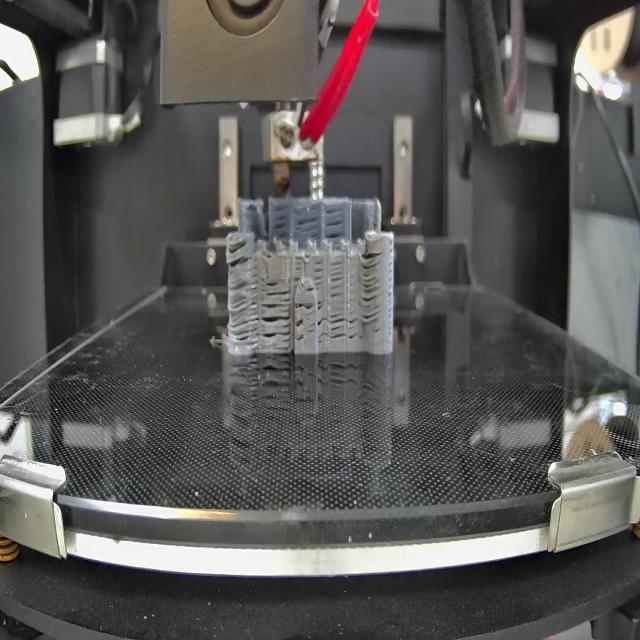cracks: (229, 279, 259, 347), (360, 249, 384, 325), (263, 303, 291, 349), (226, 240, 254, 268), (324, 208, 346, 240), (296, 212, 320, 238), (330, 260, 346, 298), (329, 313, 348, 343), (316, 300, 328, 345), (270, 206, 288, 236), (266, 279, 291, 299), (315, 257, 326, 287), (347, 313, 358, 342), (294, 255, 304, 282), (295, 298, 314, 312), (296, 318, 304, 343), (305, 282, 315, 294)
